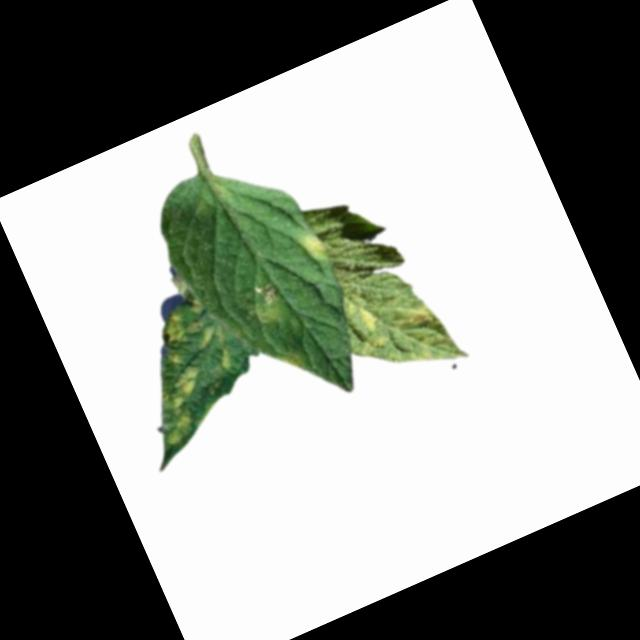Leaf_Mold: (388, 295, 463, 377), (337, 290, 389, 358), (193, 320, 240, 377), (157, 363, 207, 409), (292, 229, 332, 270), (159, 411, 200, 447), (155, 308, 191, 348)
